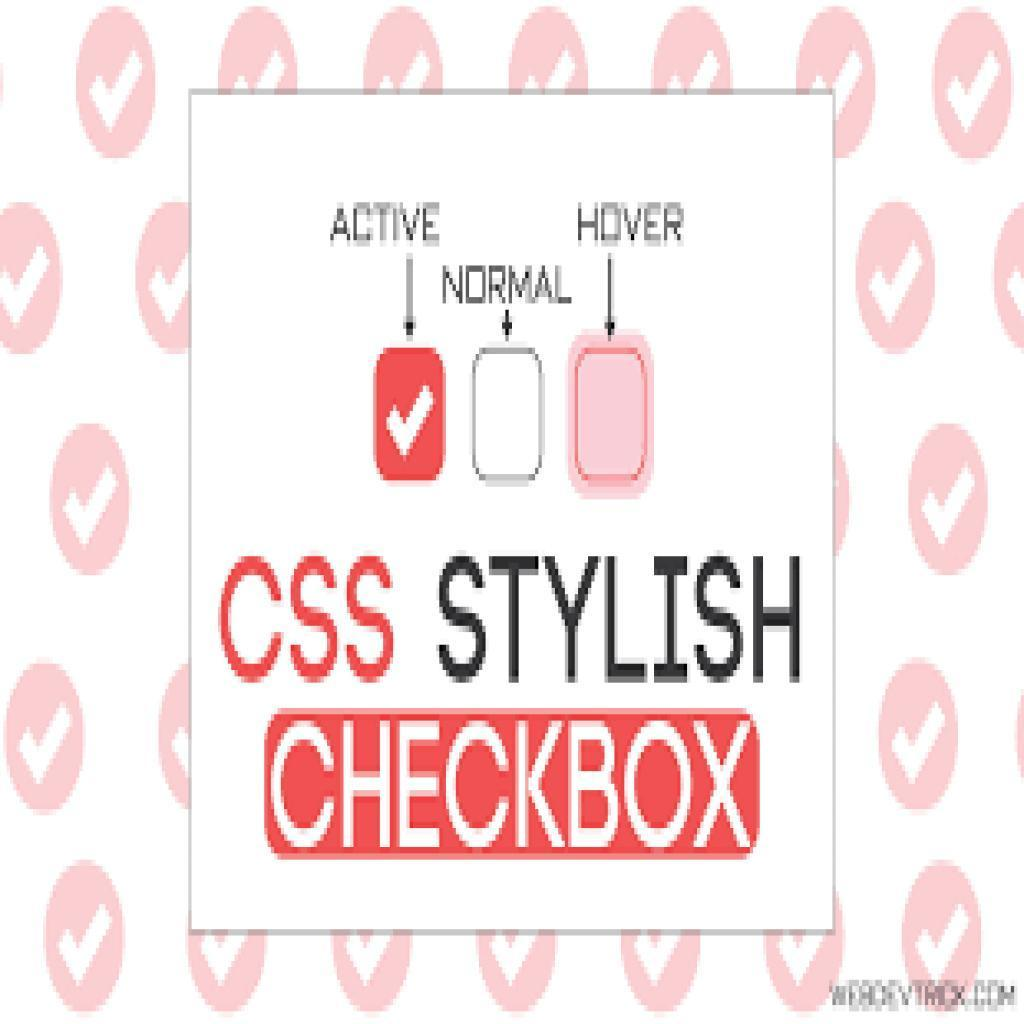checkbox: (375, 348, 446, 482), (473, 350, 544, 484), (577, 350, 646, 481)
